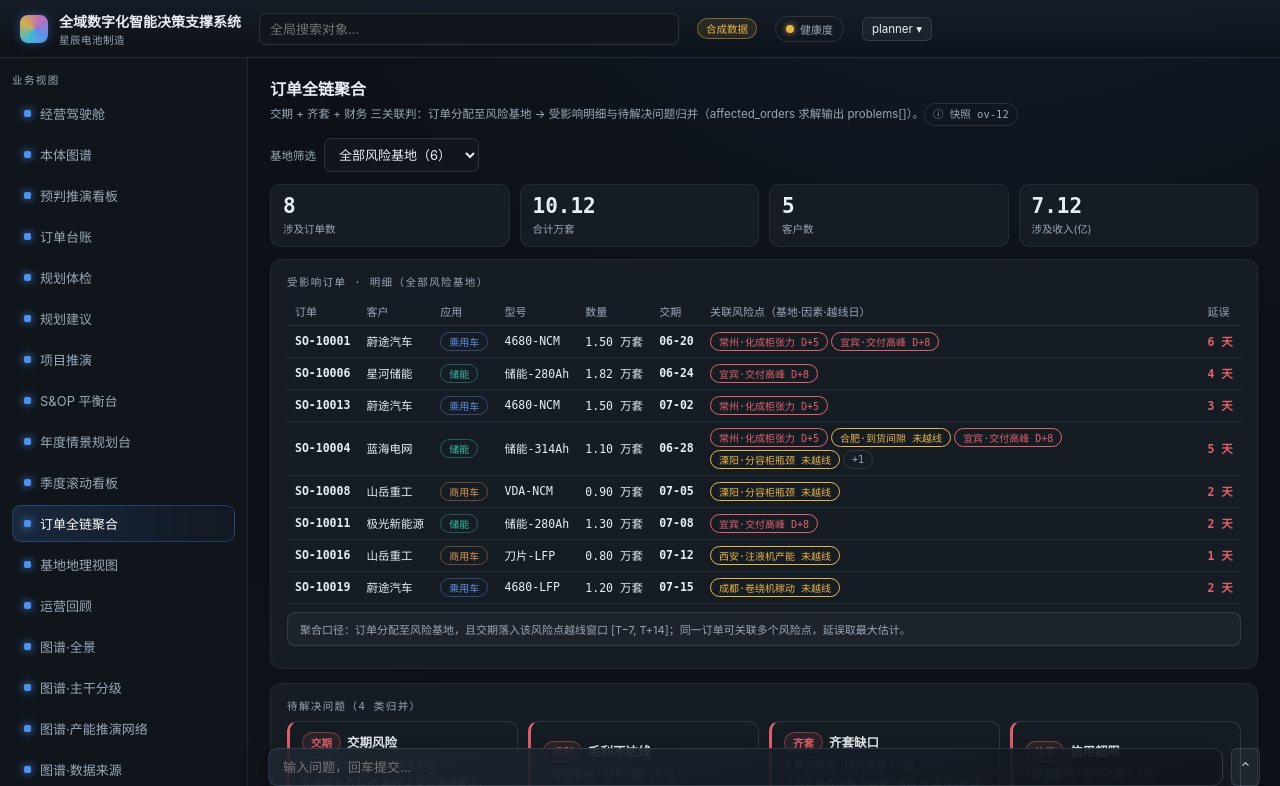
F23 · 订单全链聚合（order-chain） › 基地筛选联动明细与财务汇总条；行点击写入 selectedObjects；风险点 chips ≤4+折叠
Later steps or results of the test are not shown.
Expected: the text with test id "oc-sum-orders" reads "8", [283,194,296,218]
Expected: the text with test id "oc-sum-custs" reads "5", [782,194,795,218]
# 筛选常州 → 明细与汇总联动收窄
Select "常州" in the dropdown with test id "oc-base-filter": (402, 155) [324,138,479,172]
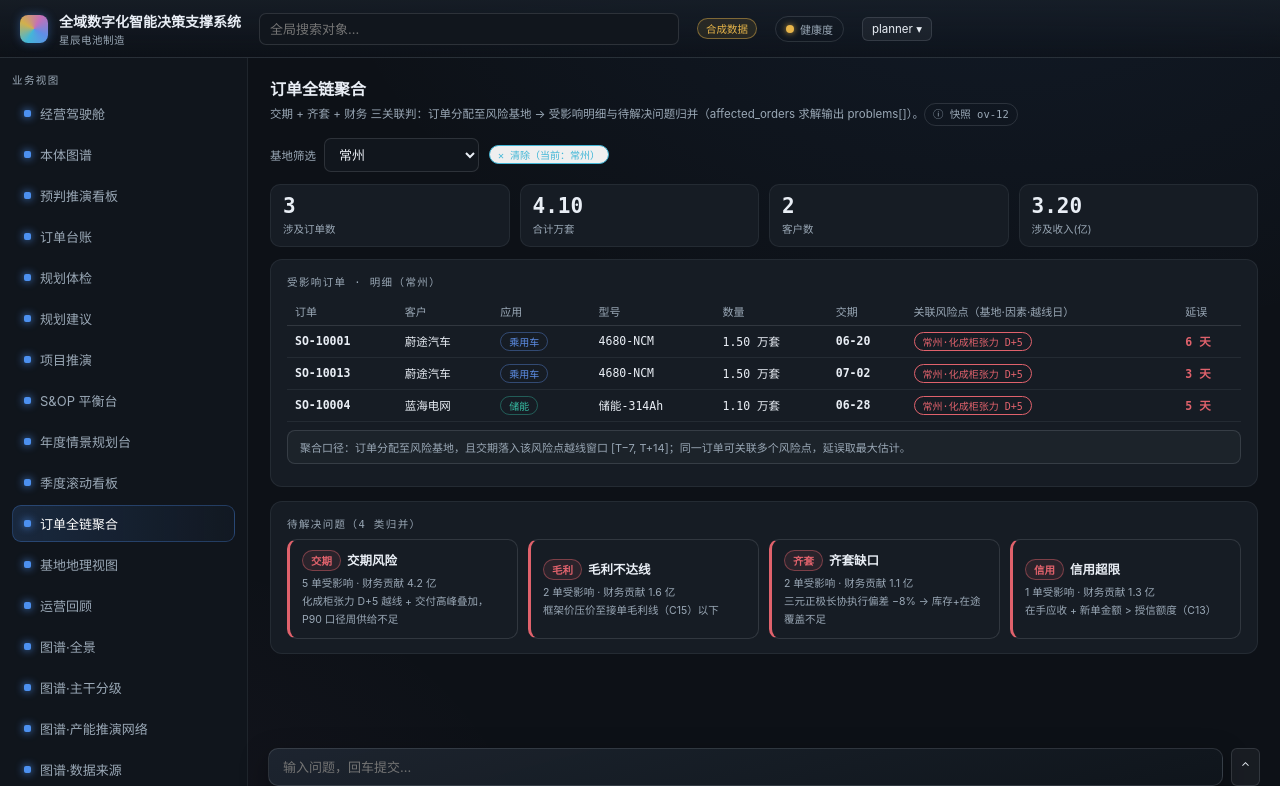
Now the text with test id "oc-sum-orders" reads "3", box [283,194,296,218]
Now the button with test id "oc-clear-filter" shows "常州"
Click the button with test id "oc-clear-filter": (549, 155) [489,145,609,164]
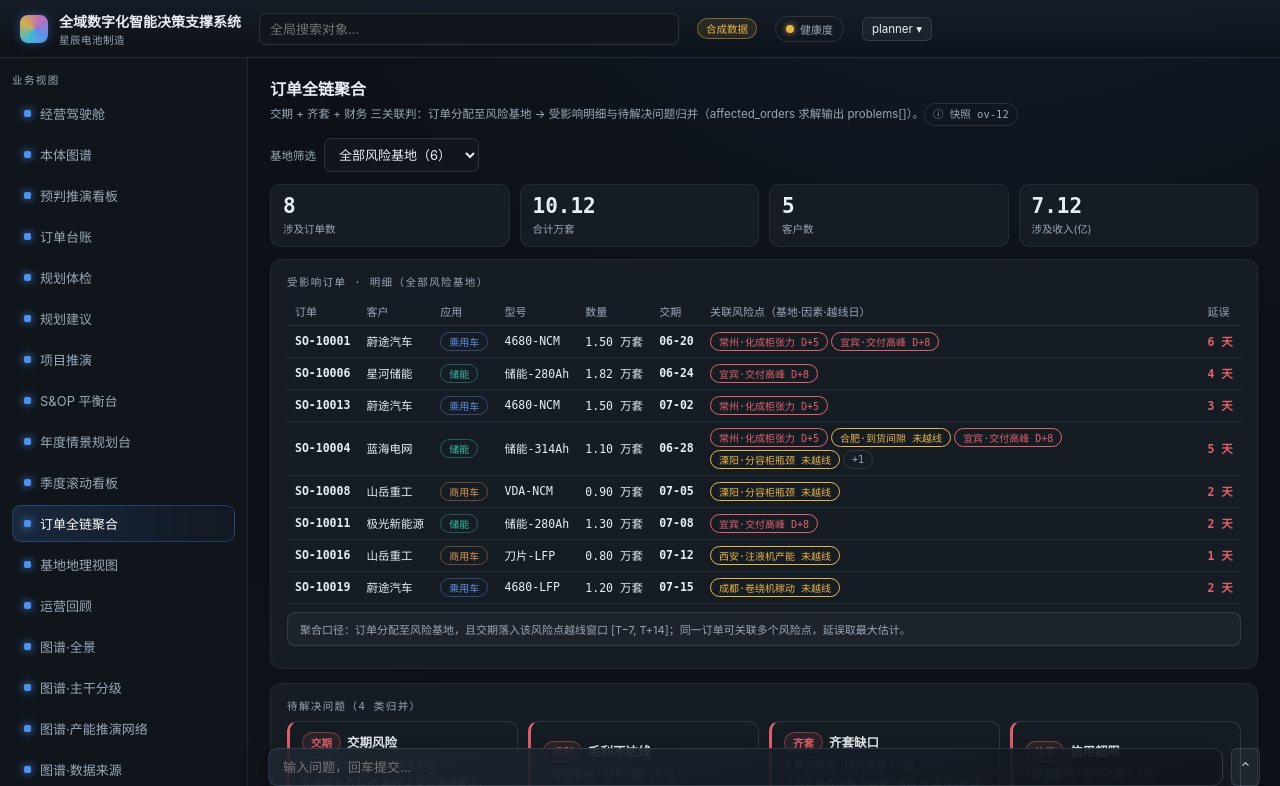
Now the text with test id "oc-sum-orders" reads "8", box [283,194,296,218]
